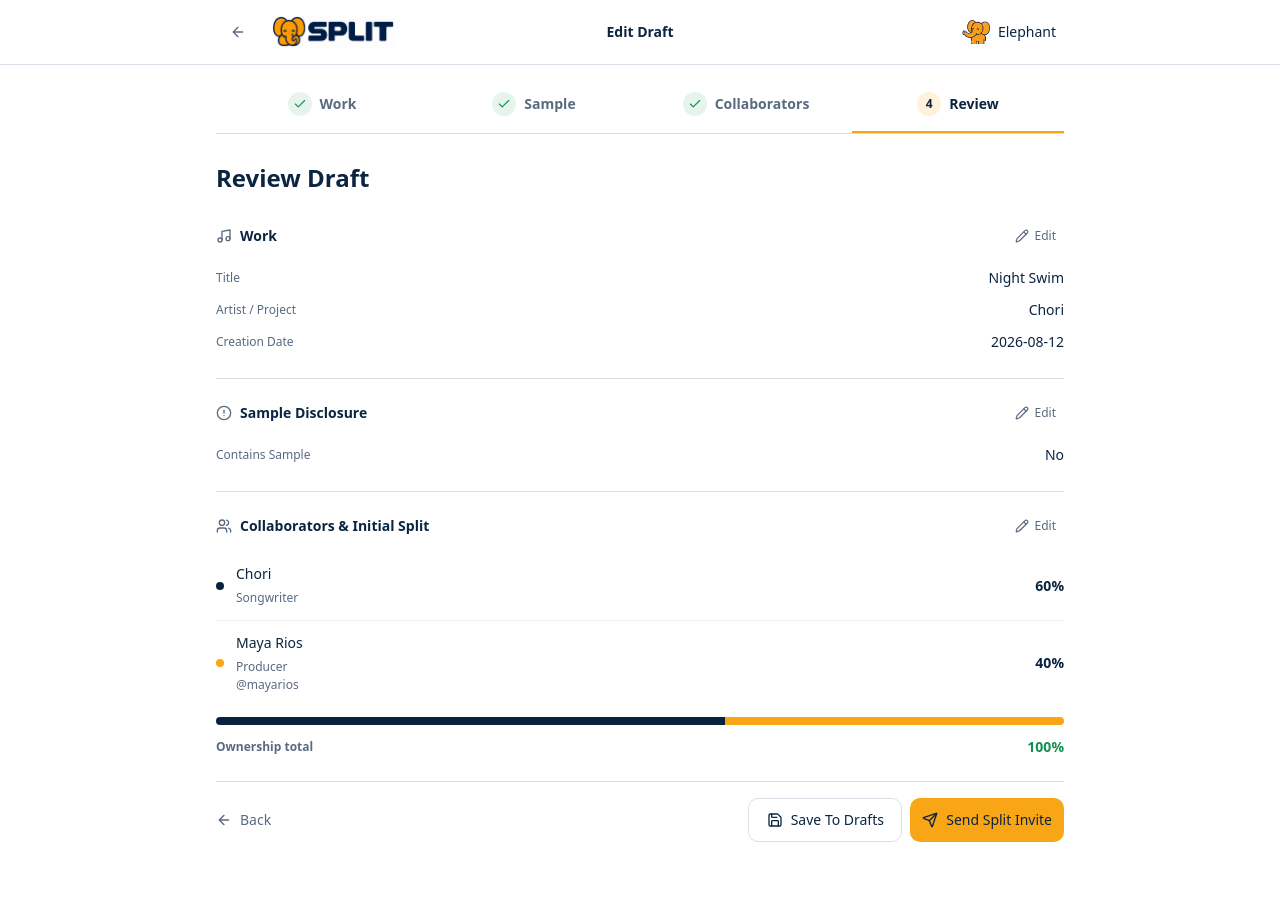
Test: split creation completion › retains the review screen and offers retry when saving a draft fails
Click the button "Save To Drafts". click: (825, 820)
box: [748,798,902,842]
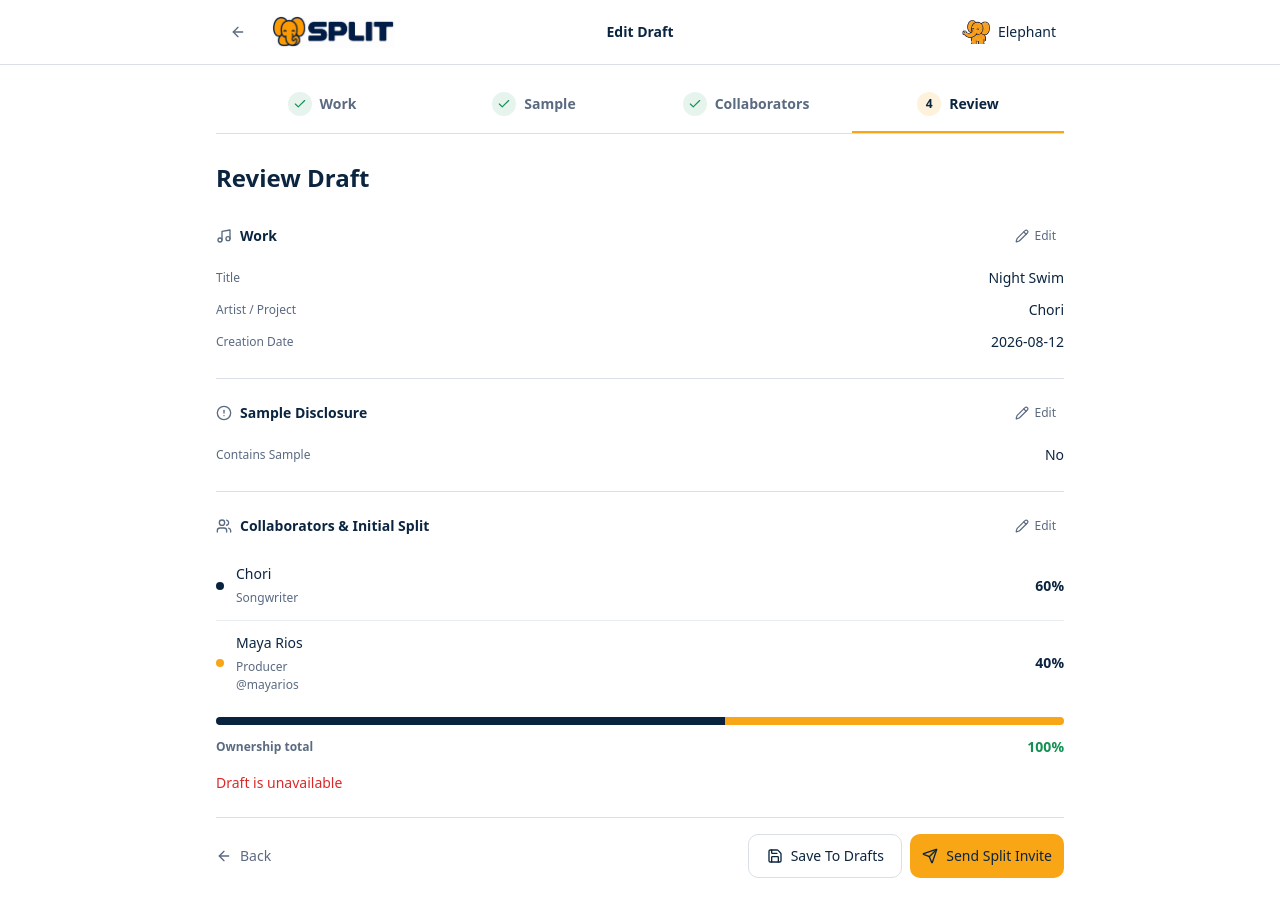
Expected: the heading "Review Draft" is shown, [216,161,369,194]
Expected: the message reads "Draft is unavailable", [216,773,342,792]
